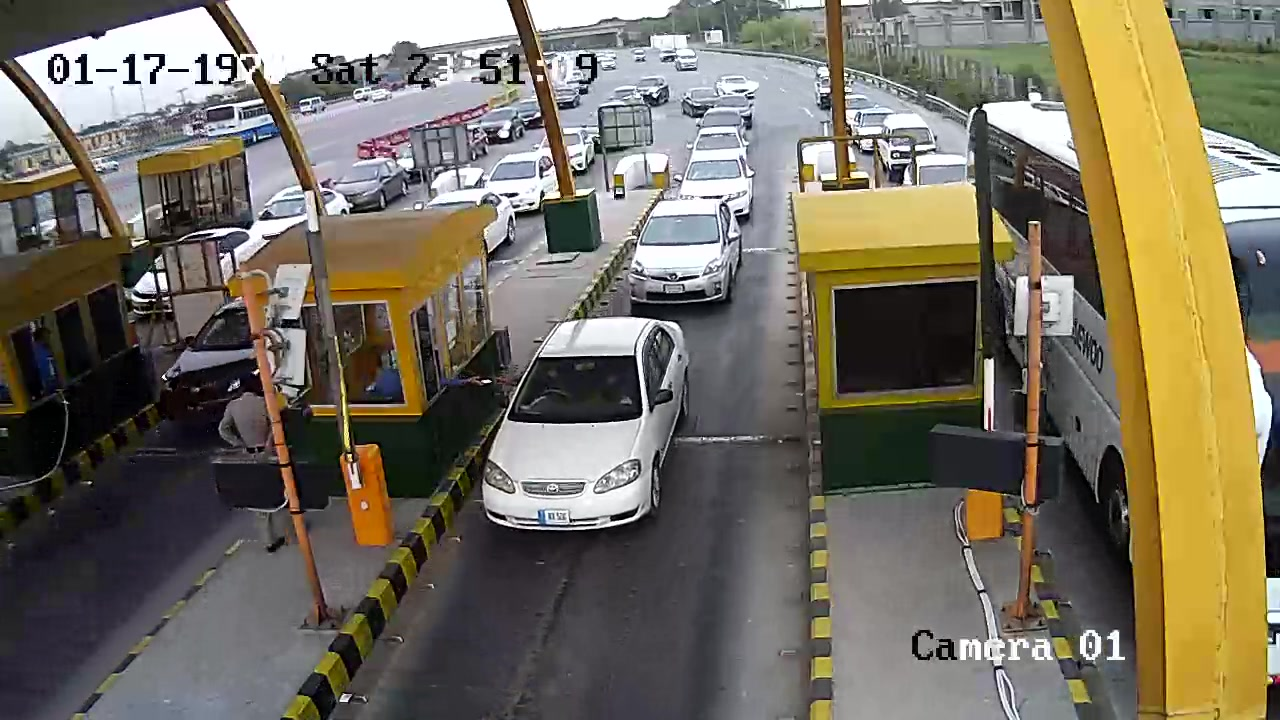F1: (461, 309, 730, 547)
